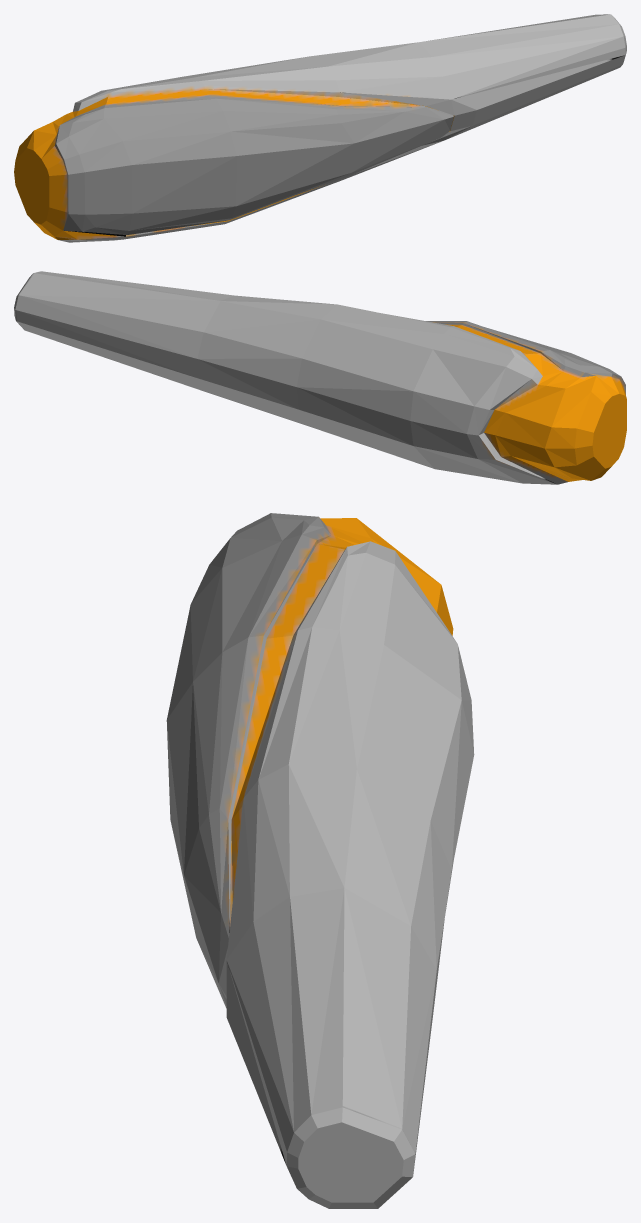
The model's file is LeftForearm.obj.
The picture shows the model from 3 angles, top to bottom: view 1: azimuth 30°, elevation 25°; view 2: azimuth 150°, elevation 25°; view 3: azimuth 270°, elevation 25°; orthographic projection. The views are drawn at different scales.
Parts seen in each view (by area): view 1: LeftForearm_Mesh.008; view 2: LeftForearm_Mesh.008; view 3: LeftForearm_Mesh.008.
Part boxes in pixels (x1,y1,x2,y2): LeftForearm_Mesh.008: (14, 14, 626, 242); LeftForearm_Mesh.008: (14, 271, 626, 484); LeftForearm_Mesh.008: (166, 513, 474, 1208).
Bounding box in the file's own units: 0.3042 × 0.0673 × 0.0703.
Materials: 1 (1 with a texture image).
